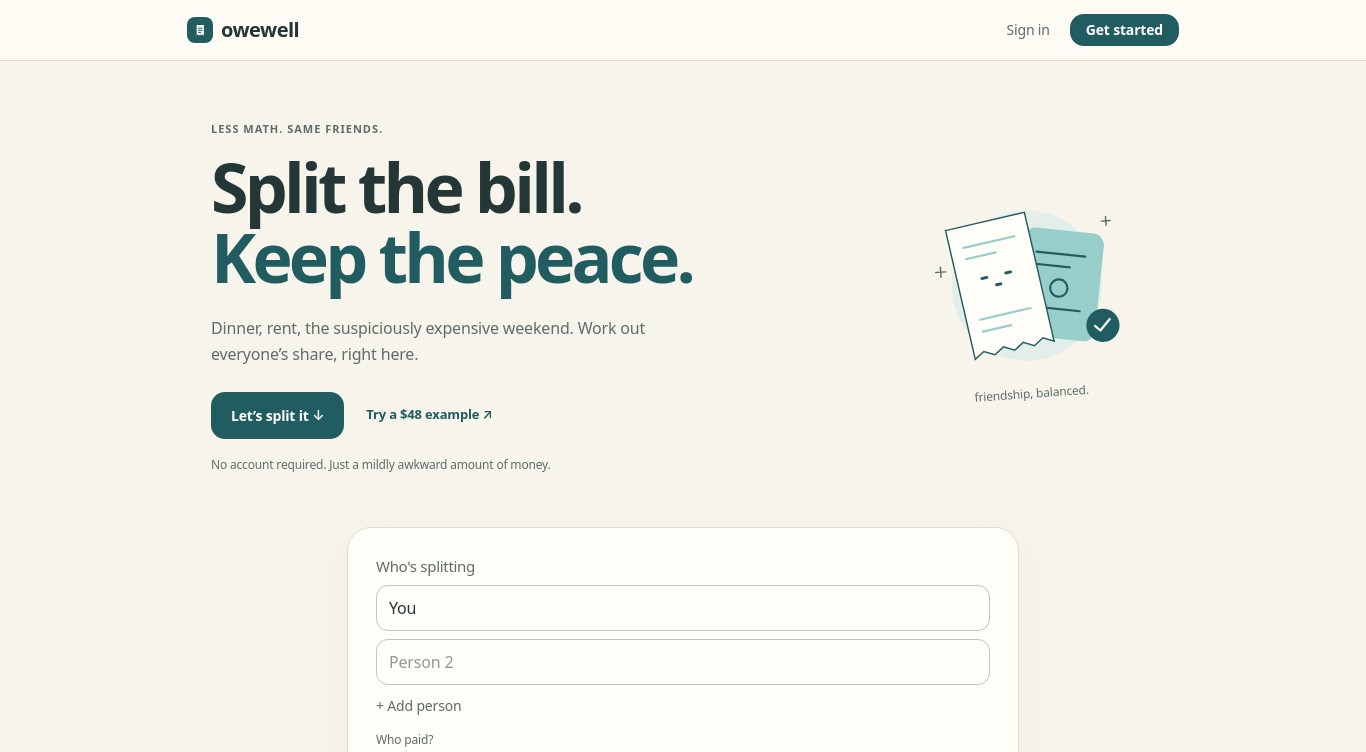
the split itself › divides a bill evenly and names who owes whom
Replace the text in the field named "Person 1 name" with "Alice": (683, 608) [376,585,990,631]
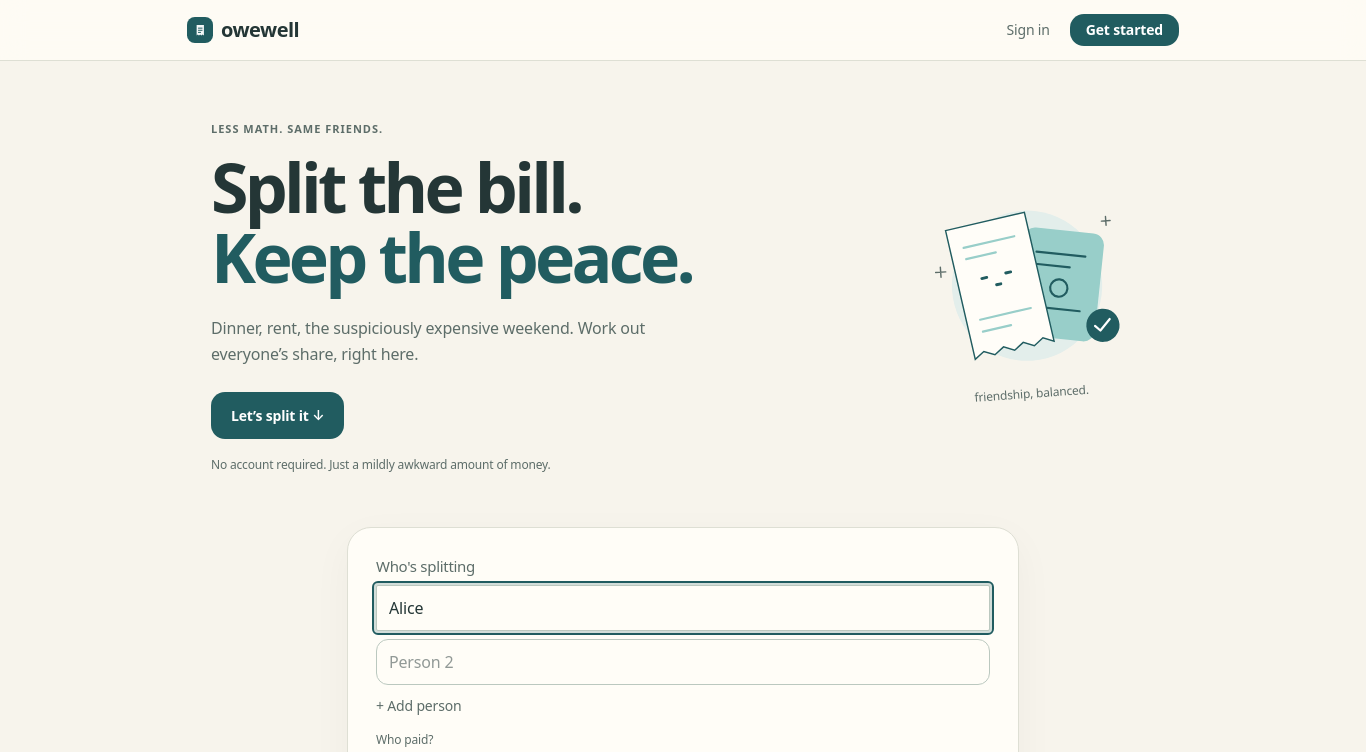
In the field with placeholder "Person 2": (683, 662) [376,639,990,685], type "Bob"
(page scrolled)
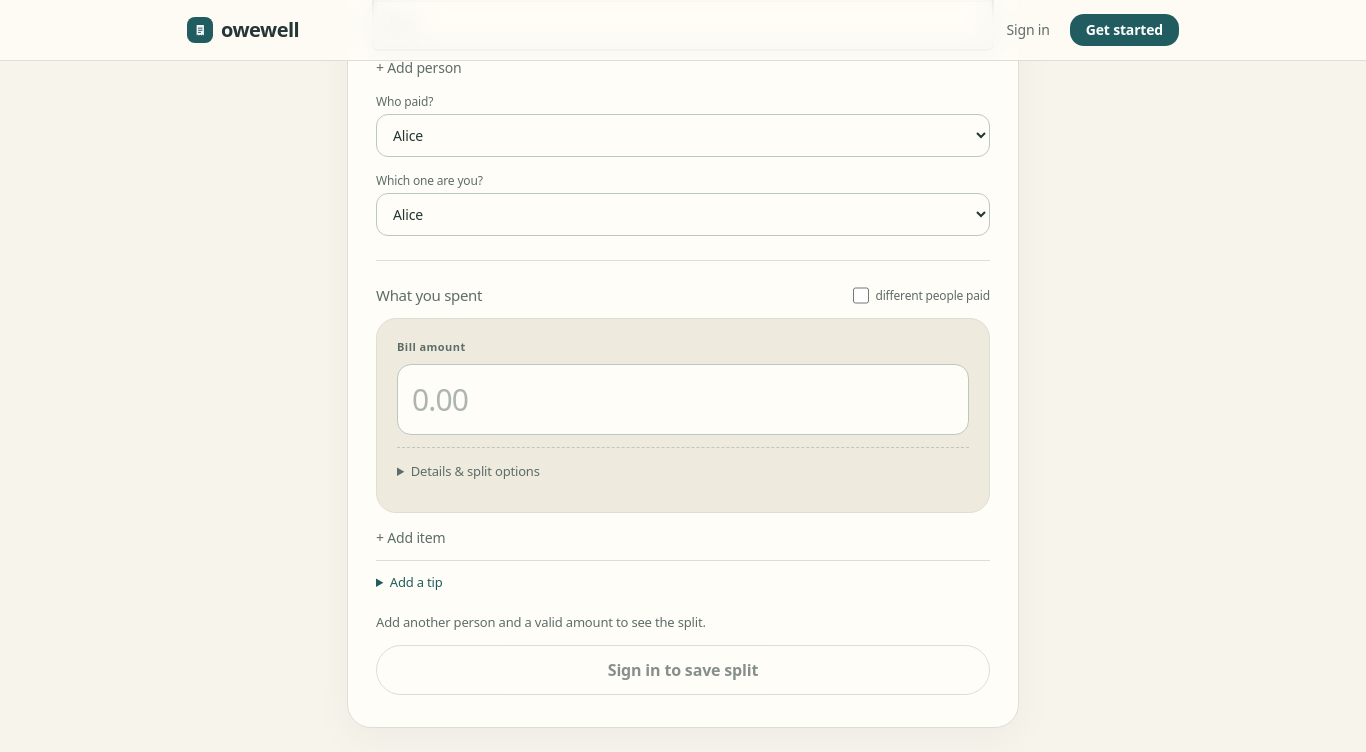
Click the heading "Details & split options": (475, 471) [411,462,540,480]
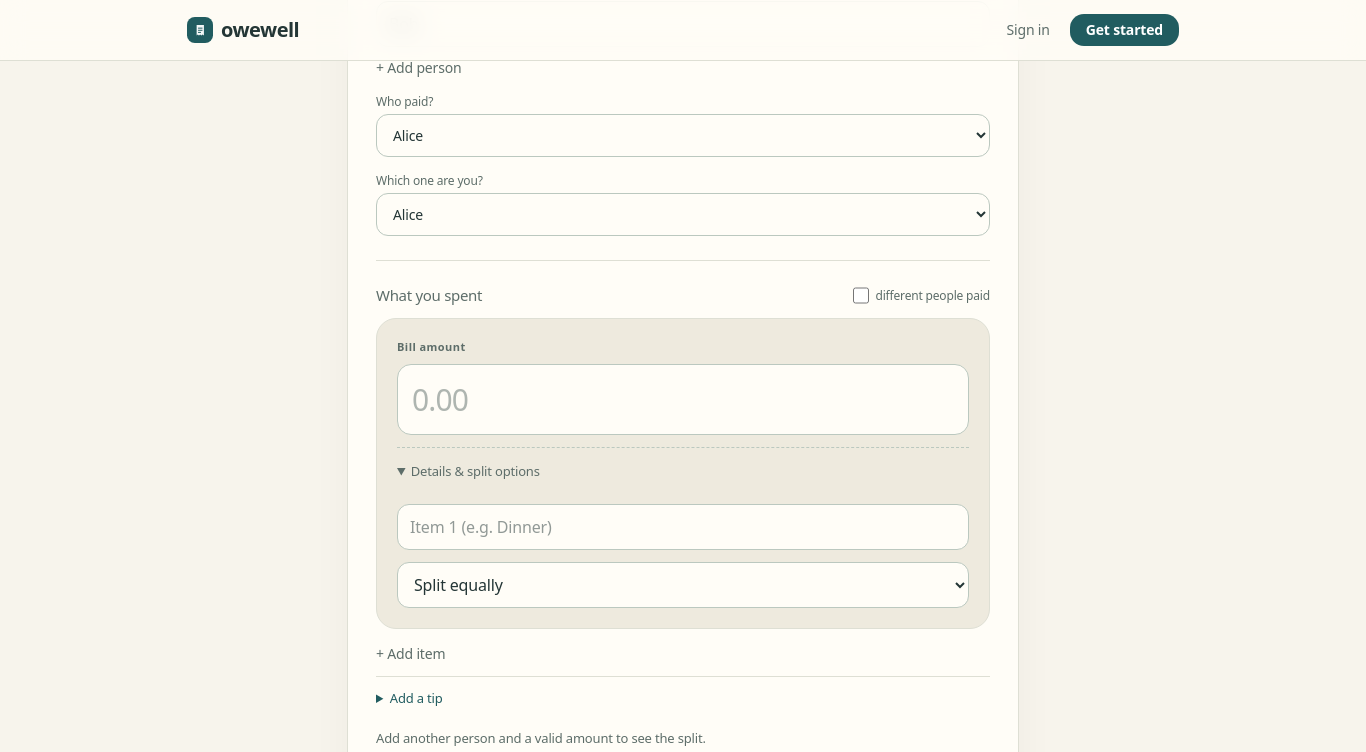
In the field named "Item 1 description": (683, 527) [397,504,969,550], type "Dinner"
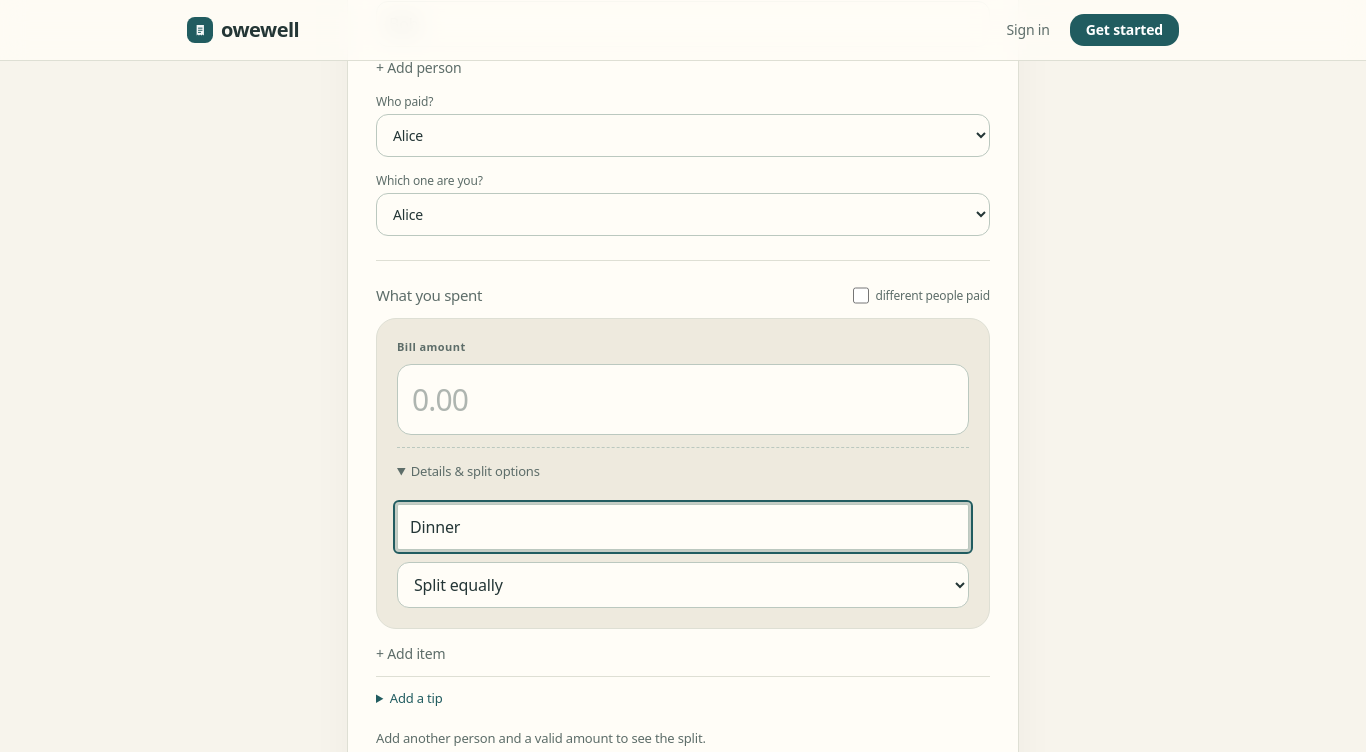
In the field named "Item 1 amount": (683, 399) [397,364,969,435], type "40.00"
(page scrolled)
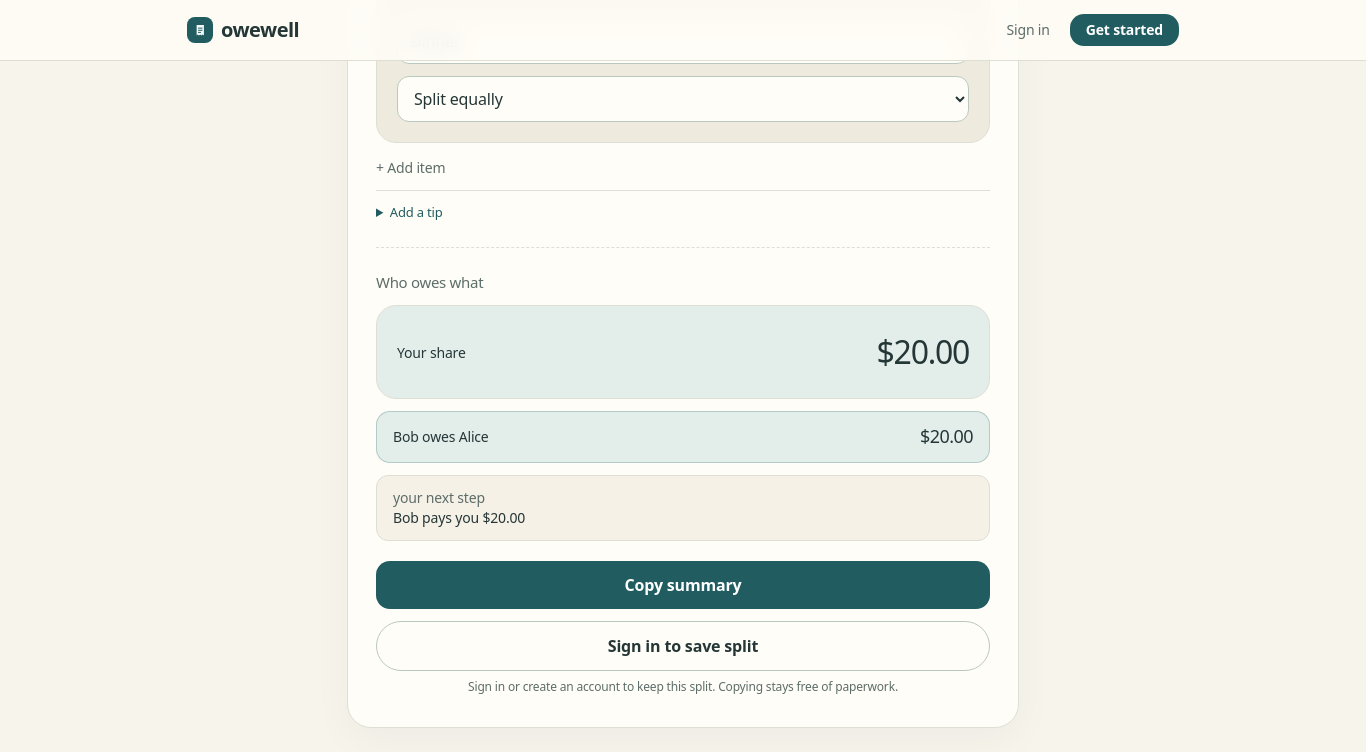
Check: the list item shows "Bob", box [393,427,419,446]
Check: the list item shows "$20.00", box [920,424,973,448]
